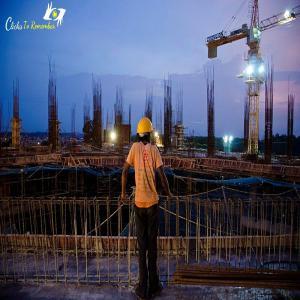yellow: (139, 118, 153, 144)
